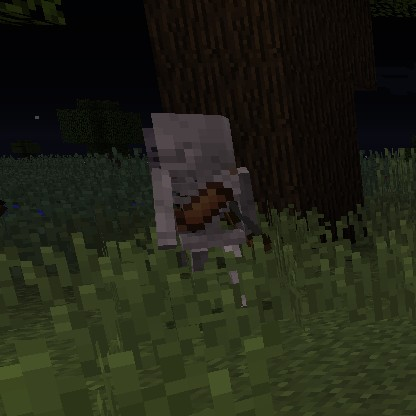skeleton: (146, 107, 257, 211)
